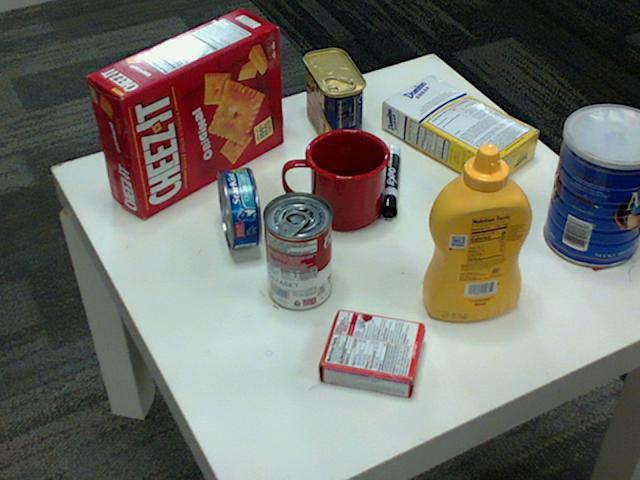cracker_box: (86, 5, 282, 216)
gelatin_box: (317, 310, 423, 399)
large_marker: (380, 148, 400, 217)
master_chef_can: (544, 104, 639, 267)
mug: (283, 126, 390, 229)
mustard_bottle: (422, 144, 532, 321)
potted_meat_can: (300, 49, 364, 148)
sugar_box: (382, 75, 541, 188)
tomato_soup_can: (262, 192, 333, 311)
tuna_fish_can: (217, 167, 261, 249)
